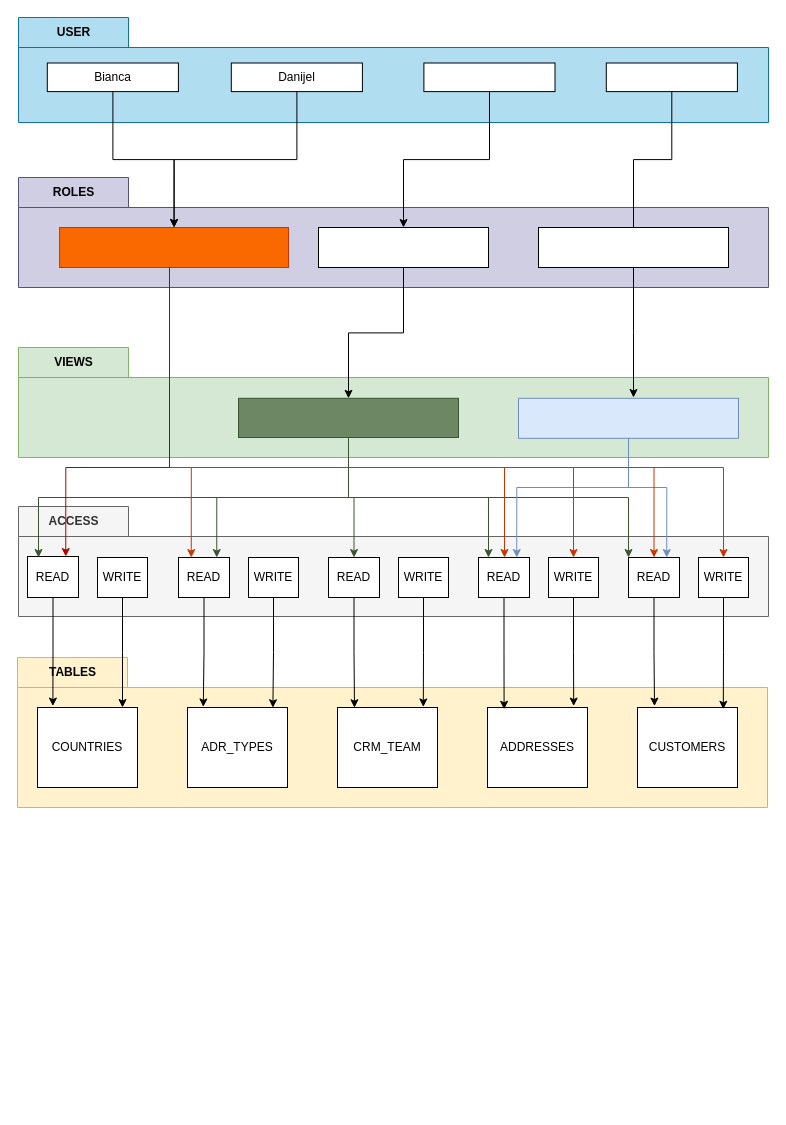
Image size: 786x1125. Some labels were removed from this diagram. Here are the shapes that lost their labels. From the top down, the centre of each, then its label:
At point 489,77: "Für jeden CRM ein eigener".
At point 671,77: "PAECKLI".
At point 173,247: "DBARC3_ROLE_CUSTOMER_ADMIN".
At point 403,247: "DBARC3_ROLE_CRM".
At point 633,247: "DBARC3_ROLE_SUPPLIER_CH".
At point 348,417: "DBARC3_VIEW_CRM".
At point 628,417: "DBARC3_VIEW_SUPPLIER_CH".
